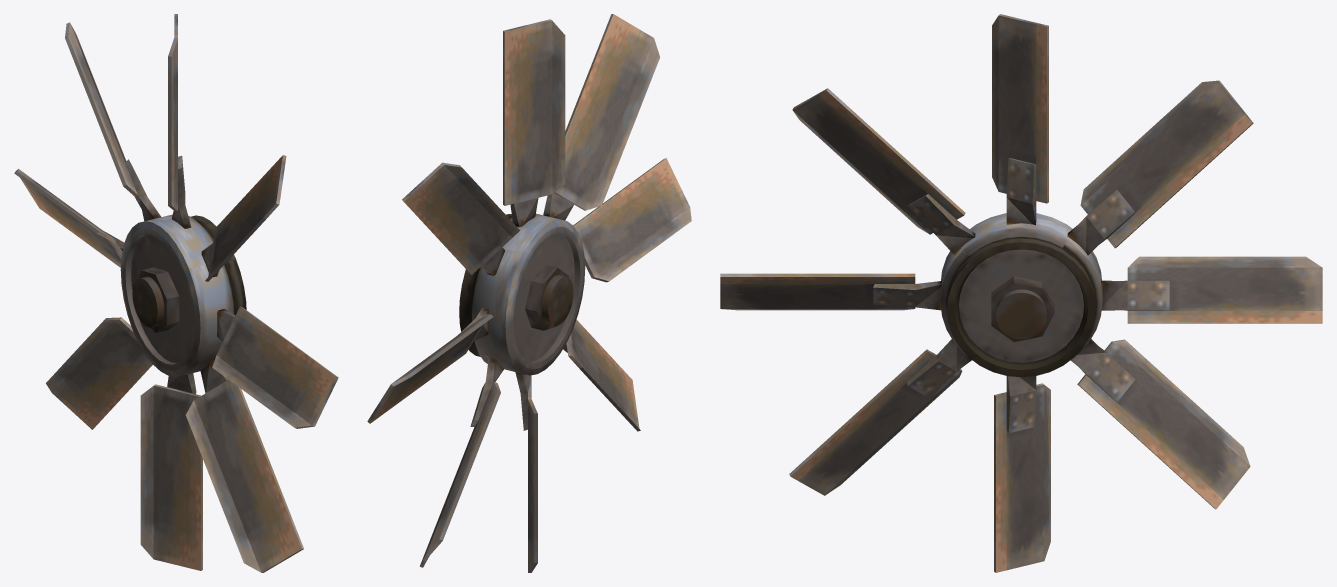
File: fan.fbx
The picture shows the model from 3 angles, left to right: view 1: azimuth 30°, elevation 25°; view 2: azimuth 150°, elevation 25°; view 3: azimuth 270°, elevation 25°; orthographic projection.
Parts seen in each view (by area): view 1: blades, core; view 2: blades, core; view 3: blades, core.
Boxes of the visible parts, bbox=[...] form: blades: bbox=[14, 14, 338, 572]; core: bbox=[120, 214, 246, 376]; blades: bbox=[367, 14, 691, 572]; core: bbox=[459, 213, 585, 375]; blades: bbox=[720, 14, 1322, 572]; core: bbox=[940, 213, 1102, 377].
Size of the model in its own units: 112 by 743 by 743.
